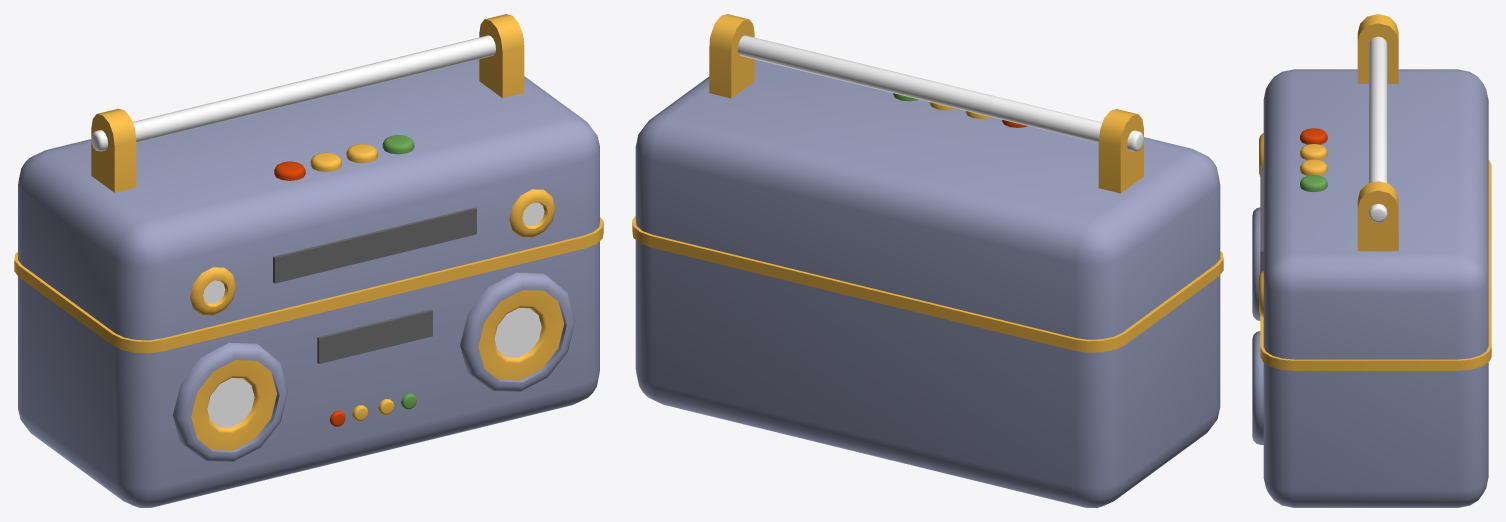
The model's file is Boombox_1.fbx.
3 views of the same model, side by side, from view 1: azimuth 30°, elevation 25°; view 2: azimuth 150°, elevation 25°; view 3: azimuth 270°, elevation 25° (orthographic). The views are drawn at different scales.
Parts seen in each view (by area): view 1: Boombox_1; view 2: Boombox_1; view 3: Boombox_1.
Boxes of the visible parts, x1,y1,x2,y2 form: Boombox_1: (14,14,603,507); Boombox_1: (632,14,1223,507); Boombox_1: (1252,14,1491,507).
Bounding box in the file's own units: 0.647 × 0.449 × 0.3119.
